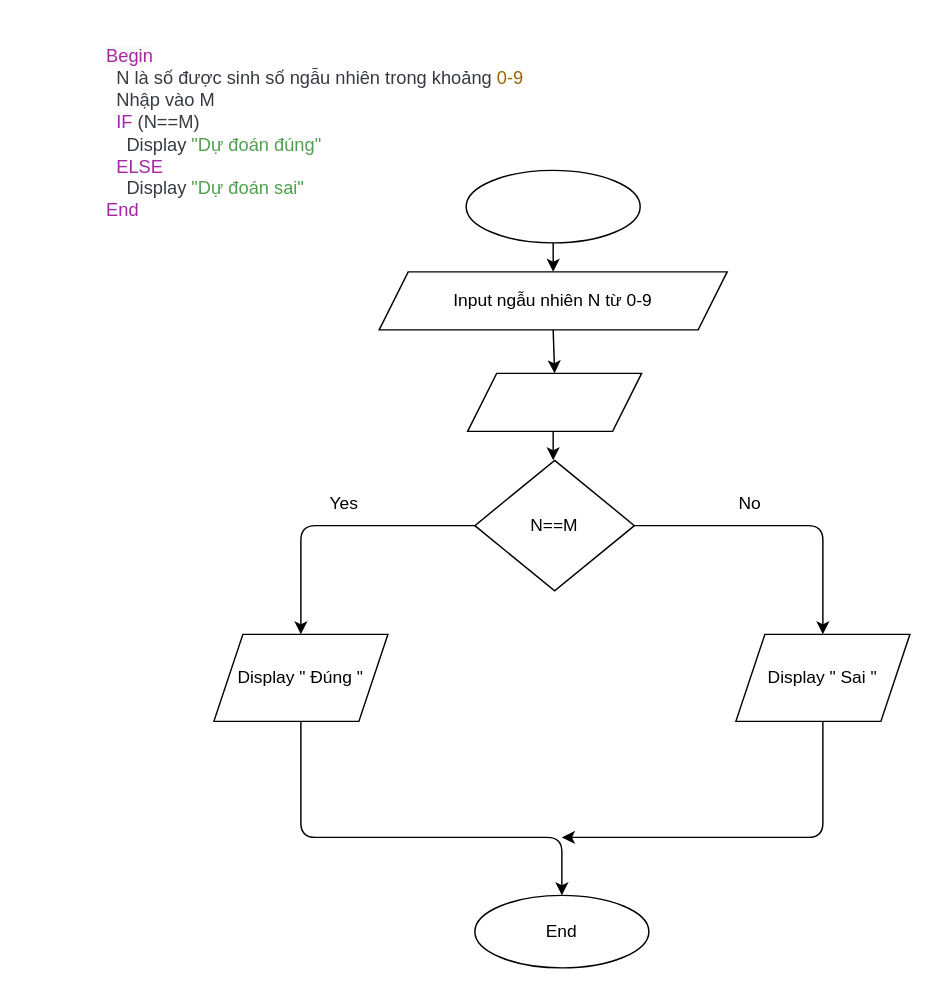
The diagram is 935 pixels wide and 993 high, and some of its shapes have lost their labels. The shapes that lost their labels are listed below. From the top down, each one's box as (x1, y1, x2, y2) in pixels, then its label:
(465, 169, 640, 243): Begin
(466, 372, 642, 431): Input M
